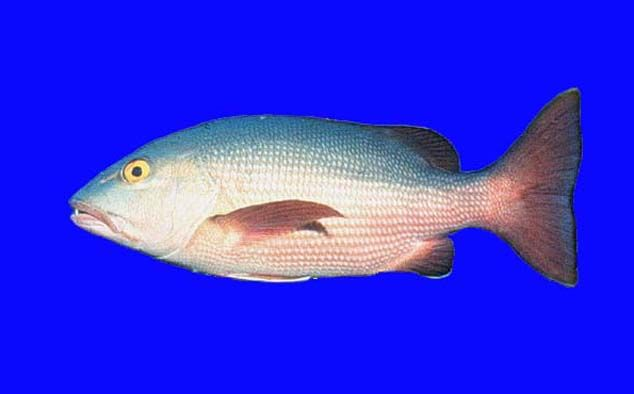fish: (66, 85, 585, 288)
